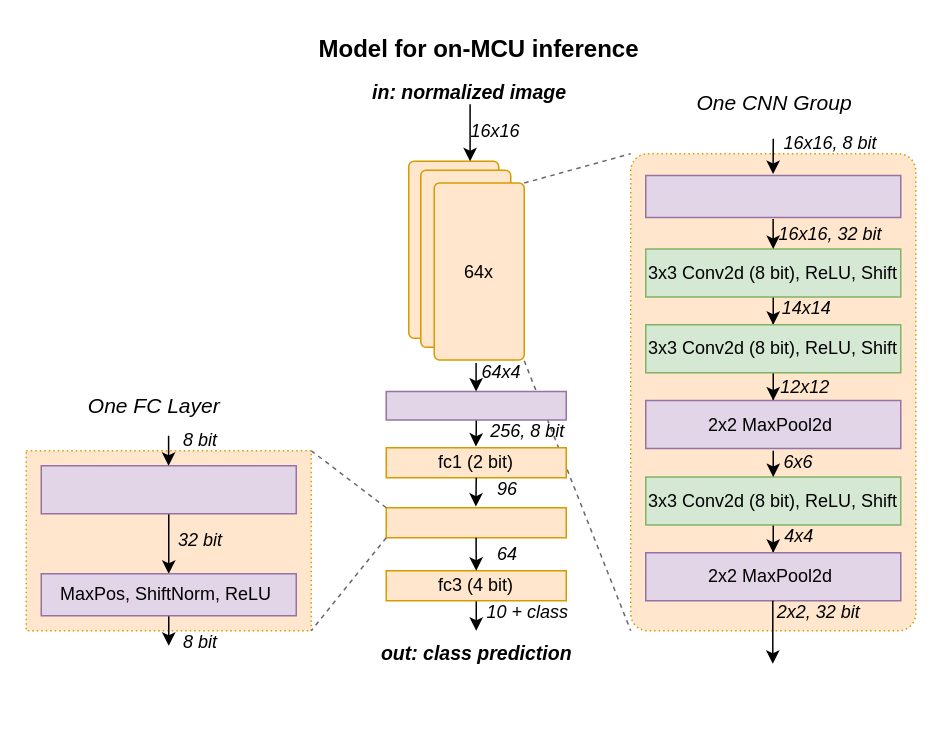
Image size: 942x729. Some labels were removed from this diagram. The shapes that lost their labels are listed below. From the top down, each one's centre as x and y in pixels, then its label:
(772,196): 8 bit -> 32 bit
(475,405): Flatten, ShiftNorm
(168,489): fc
(475,522): fc2 (4 bit)
